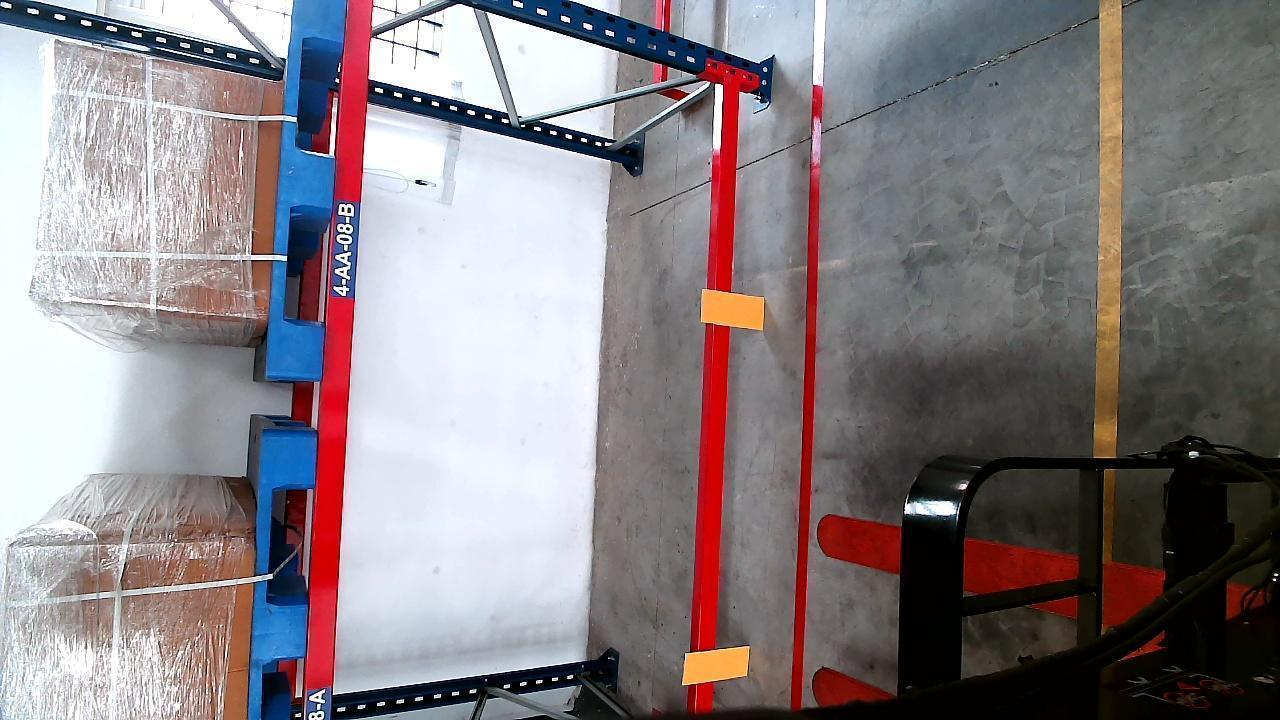red_line: (789, 83, 828, 710)
yellow_line: (1097, 0, 1125, 450)
